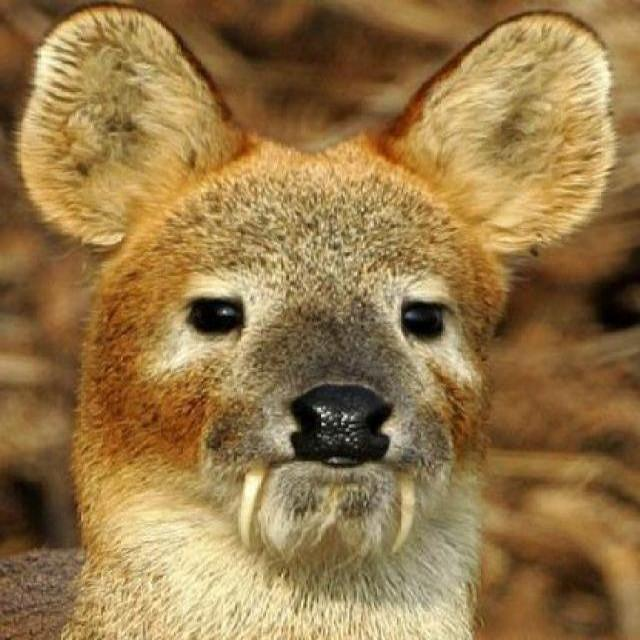deer: (9, 0, 626, 637)
